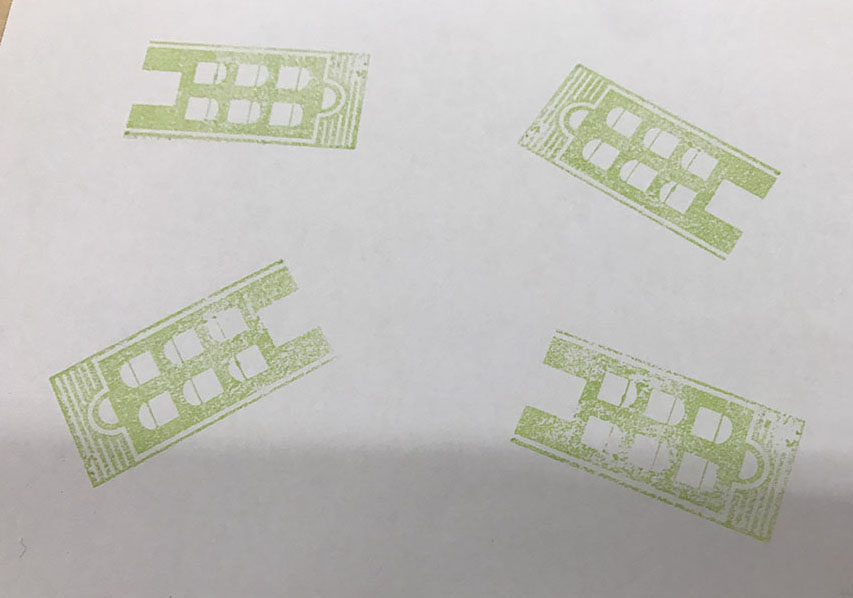build: (487, 307, 821, 573), (32, 263, 375, 494), (486, 44, 800, 288), (98, 22, 385, 168)
